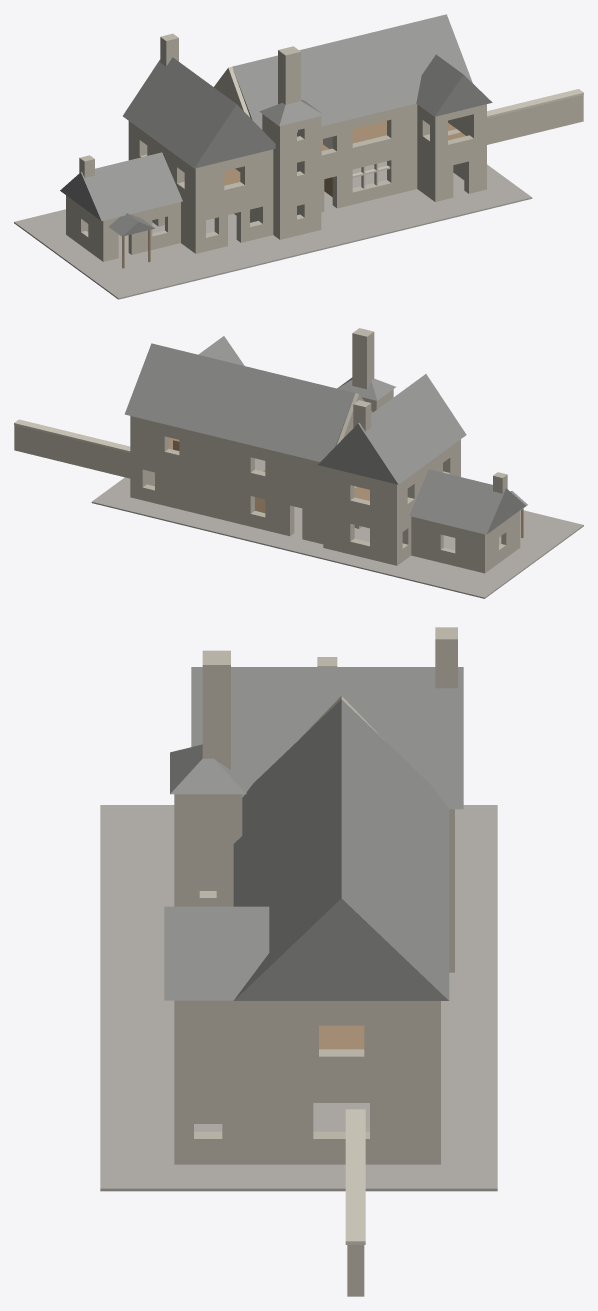
File: manor.glb
3 views of the same model, one above another, from view 1: azimuth 30°, elevation 25°; view 2: azimuth 150°, elevation 25°; view 3: azimuth 270°, elevation 25° (orthographic). The views are drawn at different scales.
Visible parts, largest first — view 1: bay-floor-upper; view 2: bay-floor-upper; view 3: bay-floor-upper.
Boxes of the visible parts, x1,y1,x2,y2 form: bay-floor-upper: (14,14,583,299); bay-floor-upper: (14,328,583,598); bay-floor-upper: (100,627,497,1296).
Bounding box in the file's own units: 41 × 13.1 × 14.
